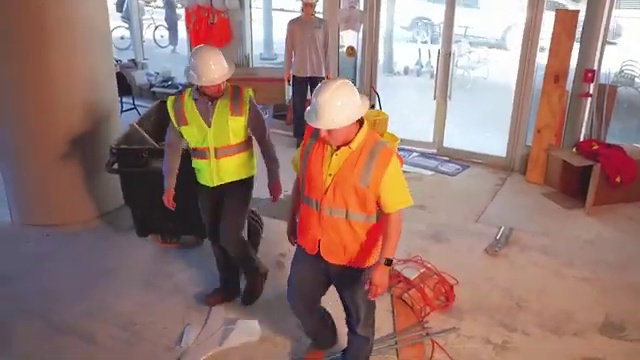helmet: (294, 70, 376, 129), (180, 32, 237, 89)
jacket: (285, 133, 403, 285), (154, 92, 262, 181)
